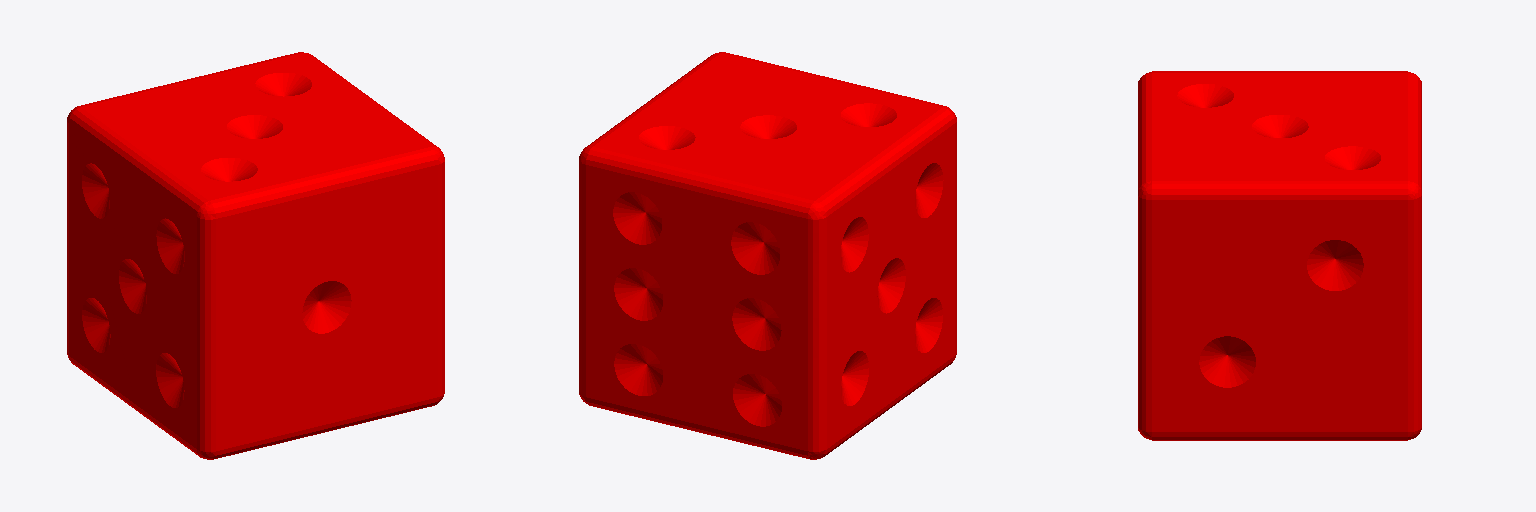
File: RedDice.obj
The picture shows the model from 3 angles: view 1: azimuth 30°, elevation 25°; view 2: azimuth 150°, elevation 25°; view 3: azimuth 270°, elevation 25°; orthographic projection.
Parts seen in each view (by area): view 1: Dice__Box__Box; view 2: Dice__Box__Box; view 3: Dice__Box__Box.
Part boxes in pixels (x1,y1,x2,y2): Dice__Box__Box: (67,52,444,459); Dice__Box__Box: (579,52,956,459); Dice__Box__Box: (1138,71,1421,440).
Bounding box in the file's own units: 10 × 10 × 10.